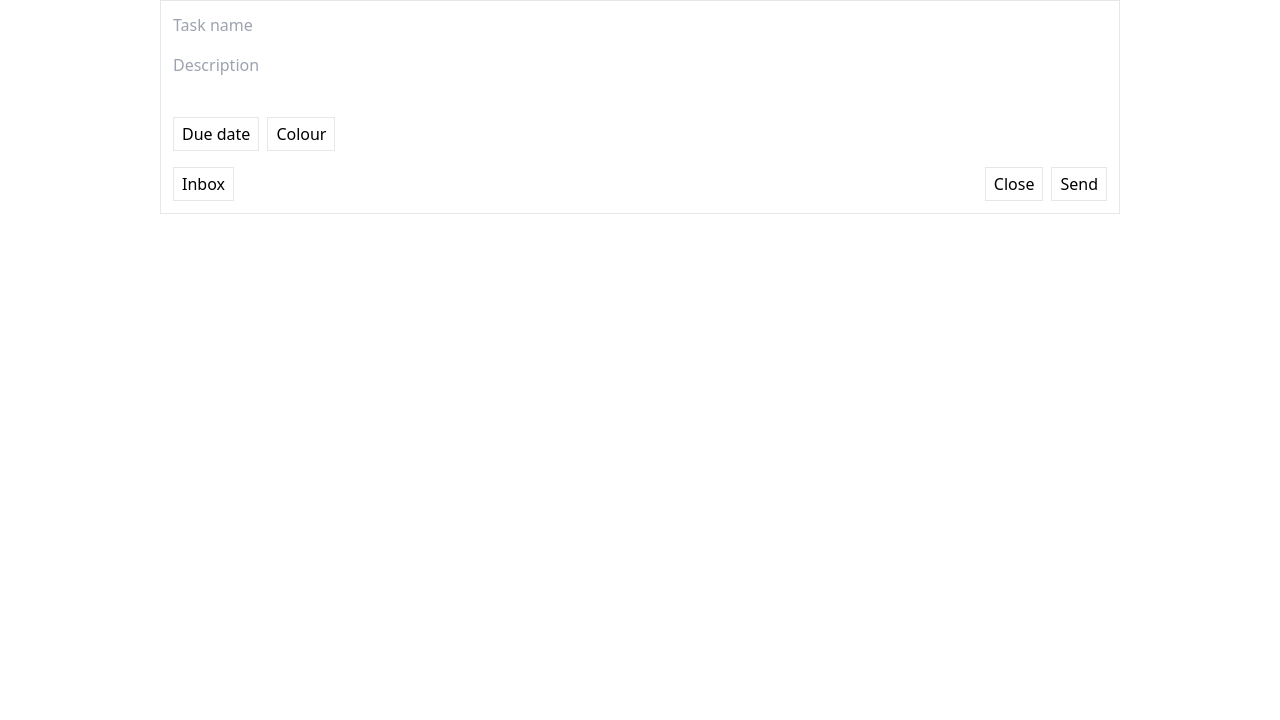
AddTaskForm › renders quick options list and calendar month view in scheduler
Click the button with test id "-dueDateSelector".
click(216, 134)  # box x1=173 y1=117 x2=259 y2=151
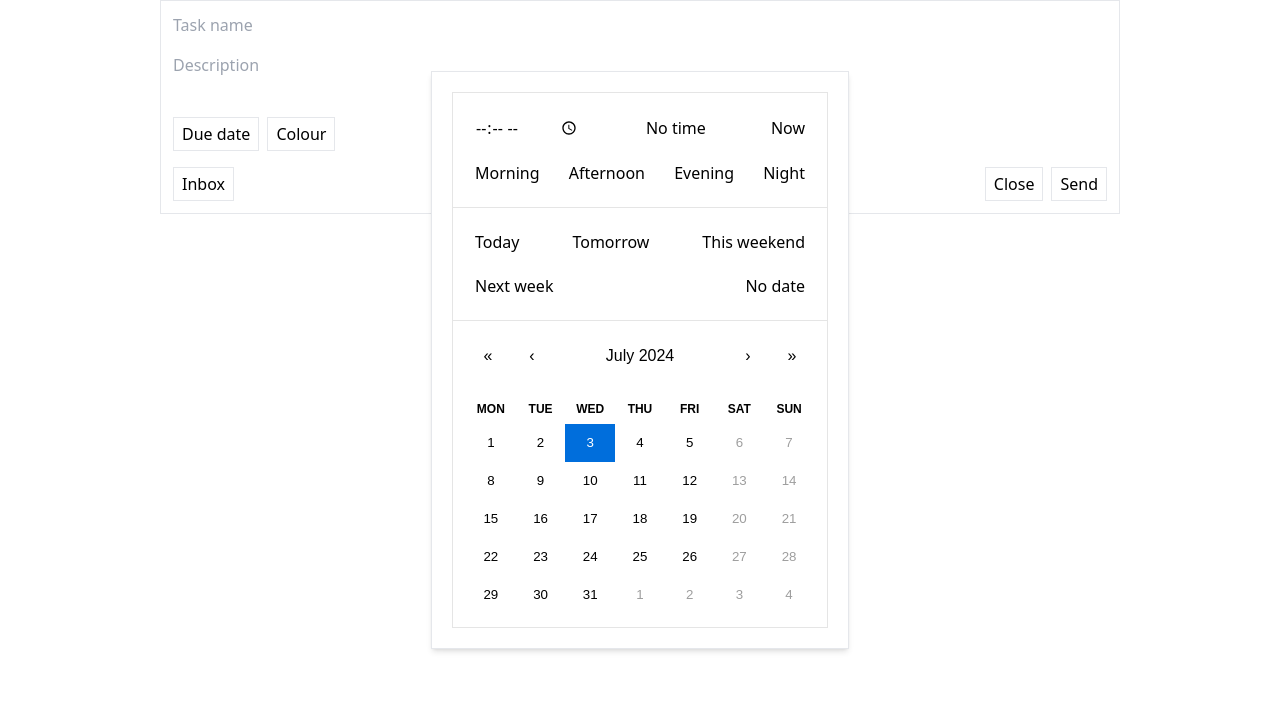
Expected: the element with test id "-quick-options" is shown, x1=465 y1=220 x2=815 y2=308
Expected: the element with test id "-calendar-view" is shown, x1=465 y1=333 x2=815 y2=615
